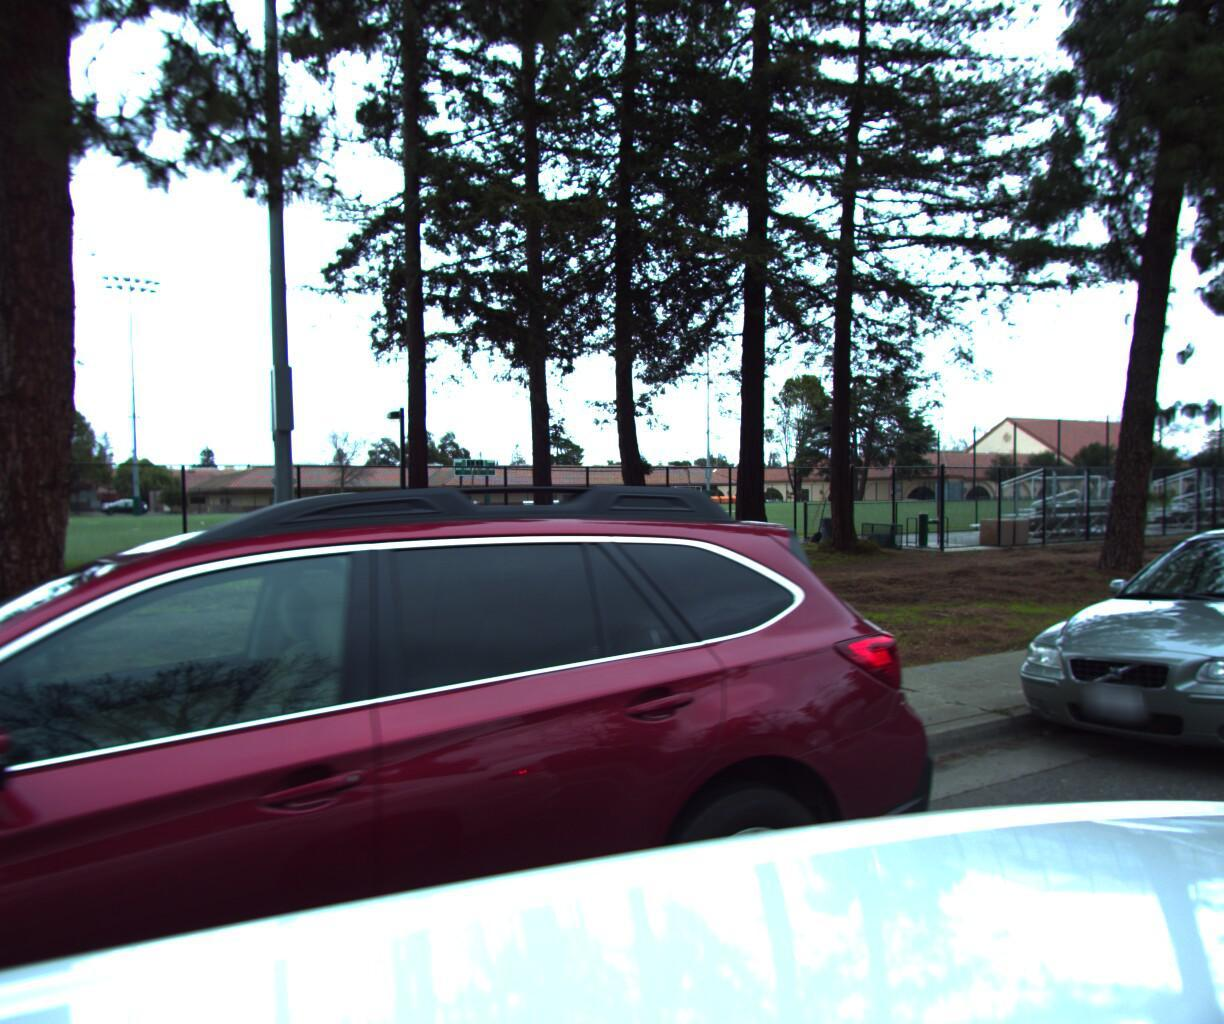car: (0, 480, 975, 1024), (973, 501, 1224, 830)
